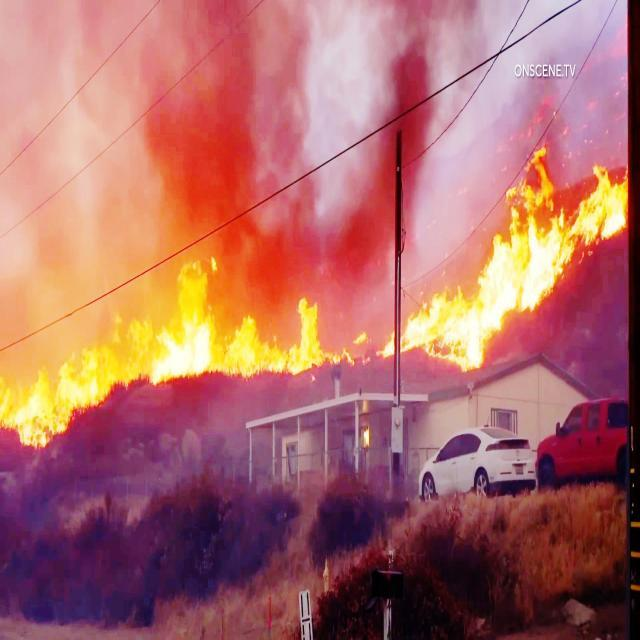Fire: (77, 0, 338, 245), (408, 153, 586, 363), (0, 335, 106, 460), (151, 264, 213, 377)
